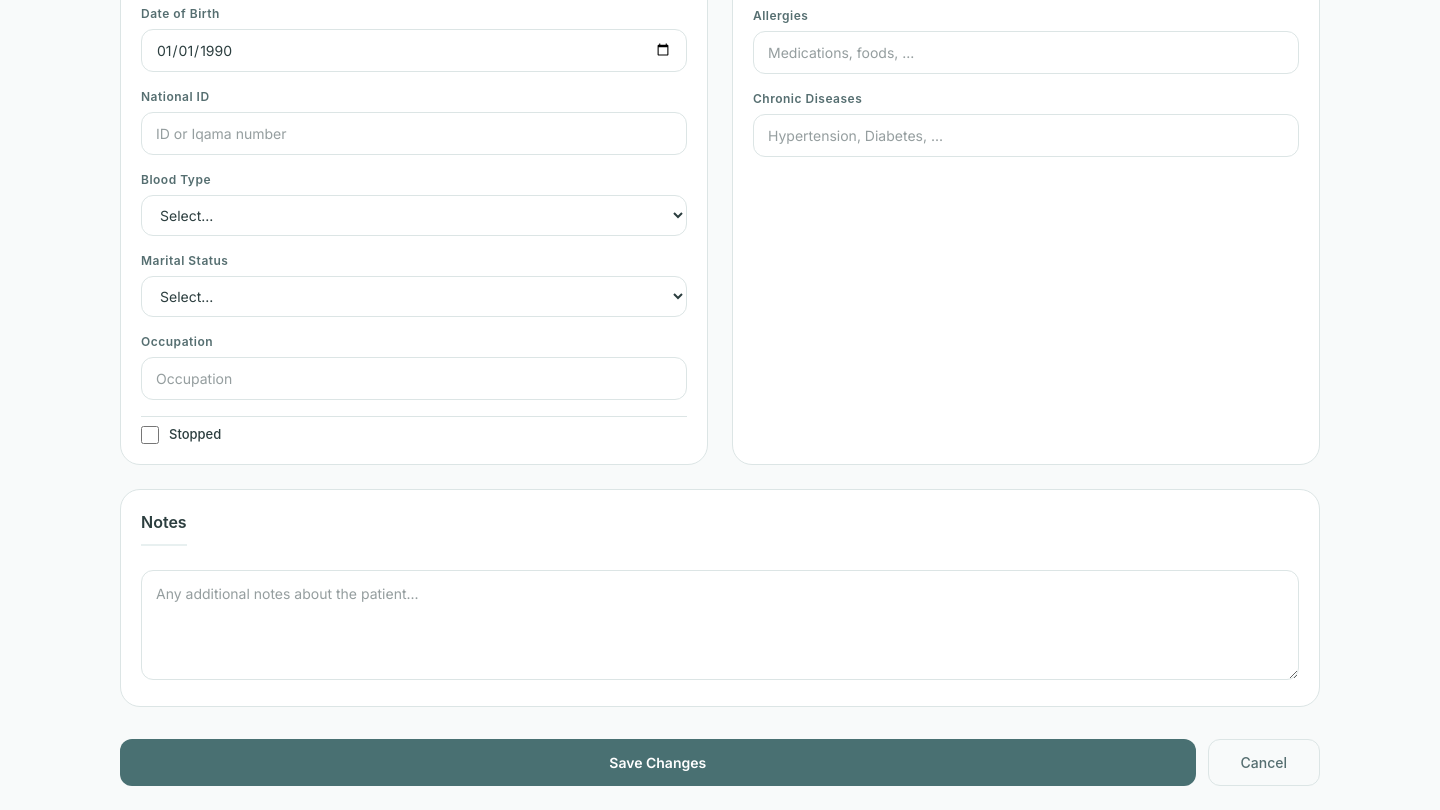
it: EditPatient › shows the server error message when saving fails
(page scrolled)
Click the button "Save Changes".
click(658, 763)  # box x1=120 y1=739 x2=1196 y2=786
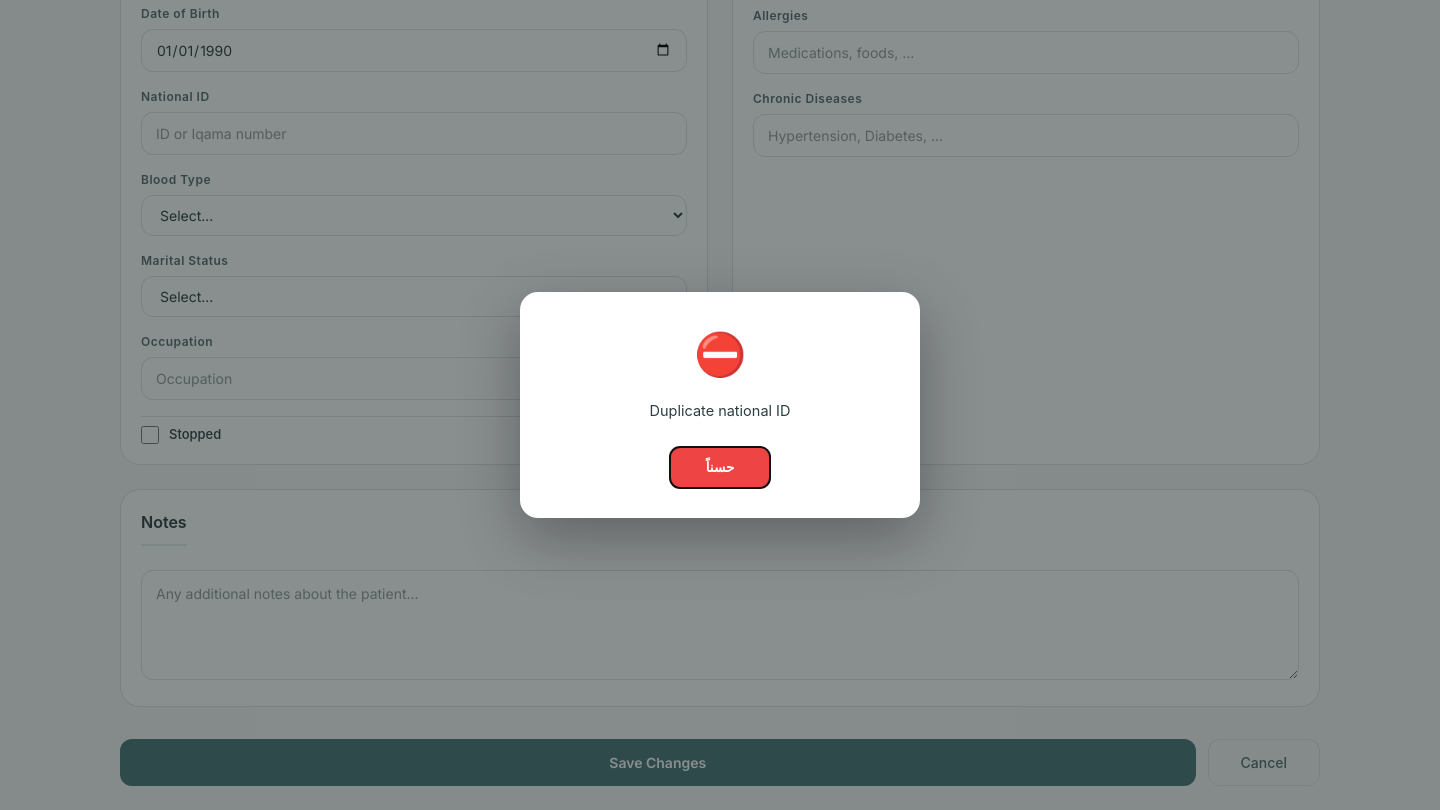
Check: the text "Duplicate national ID" is shown, box x1=650 y1=402 x2=790 y2=419
